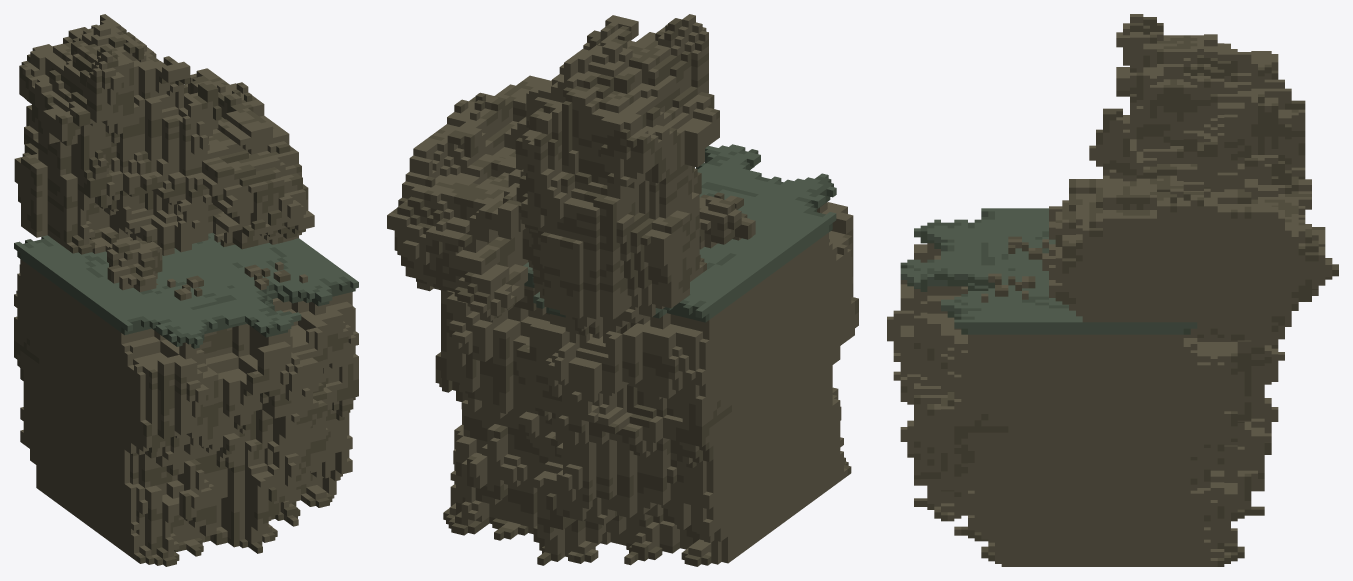
Rendered from mountain_1.obj.
The picture shows the model from 3 angles, left to right: view 1: azimuth 30°, elevation 25°; view 2: azimuth 150°, elevation 25°; view 3: azimuth 270°, elevation 25°; orthographic projection. The views are drawn at different scales.
Size of the model in its own units: 4 by 7.6 by 6.7.
Materials: 1 (1 with a texture image).
